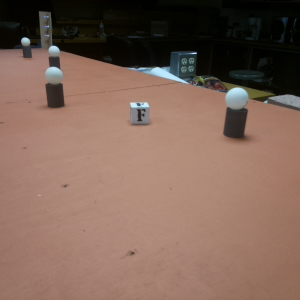blockF: (129, 102, 151, 125)
corner: (40, 10, 52, 47)
obstacle: (224, 87, 248, 142), (46, 66, 65, 107), (21, 36, 34, 59), (49, 47, 61, 69)
